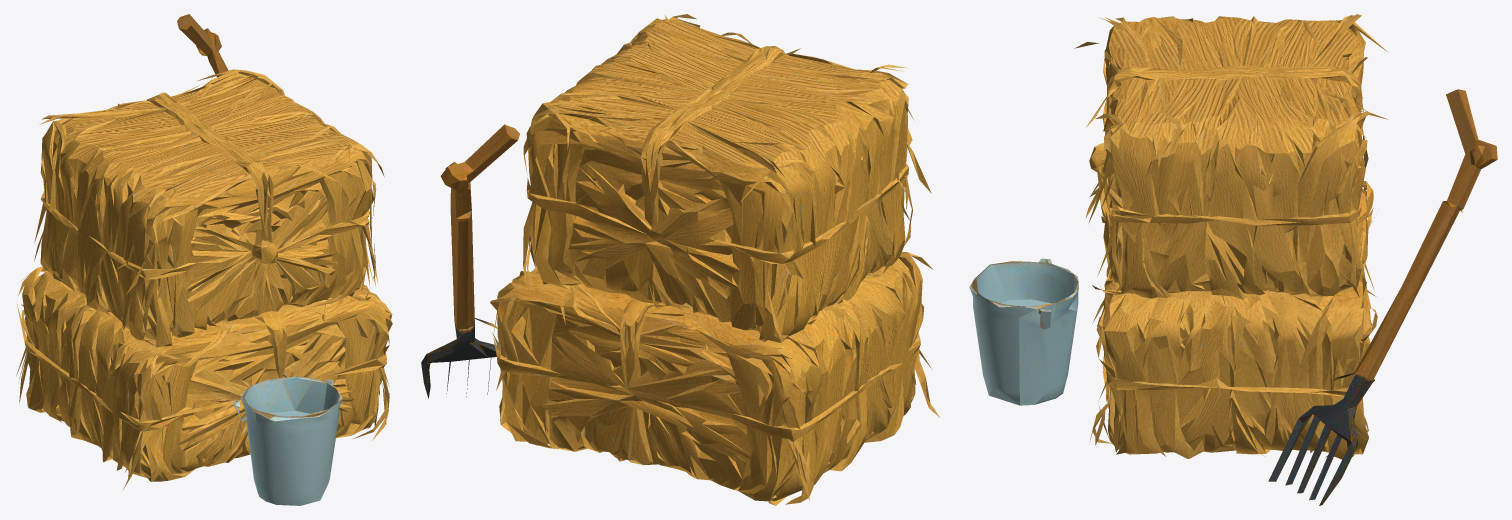
File: hay_props.glb
The picture shows the model from 3 angles, left to right: view 1: azimuth 30°, elevation 25°; view 2: azimuth 150°, elevation 25°; view 3: azimuth 270°, elevation 25°; orthographic projection. The views are drawn at different scales.
Size of the model in its own units: 1.61 by 1.4 by 1.9.
1 material, 1 textured.
